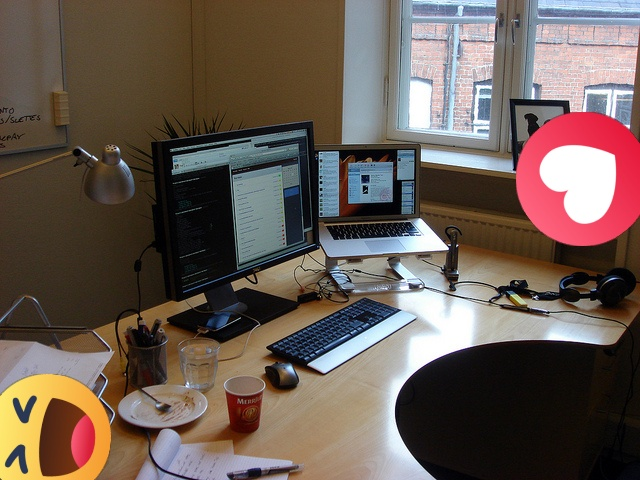haha: (0, 374, 111, 480)
love: (516, 112, 640, 246)
